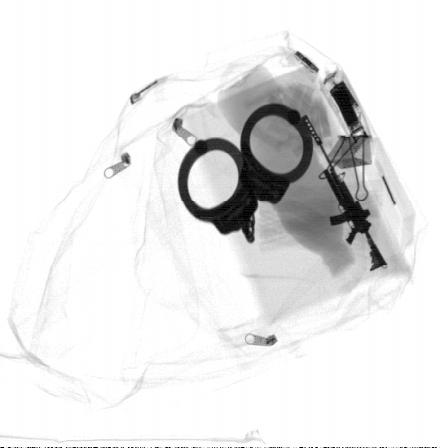Gun: (298, 113, 390, 273)
HandCuffs: (177, 102, 314, 244)
